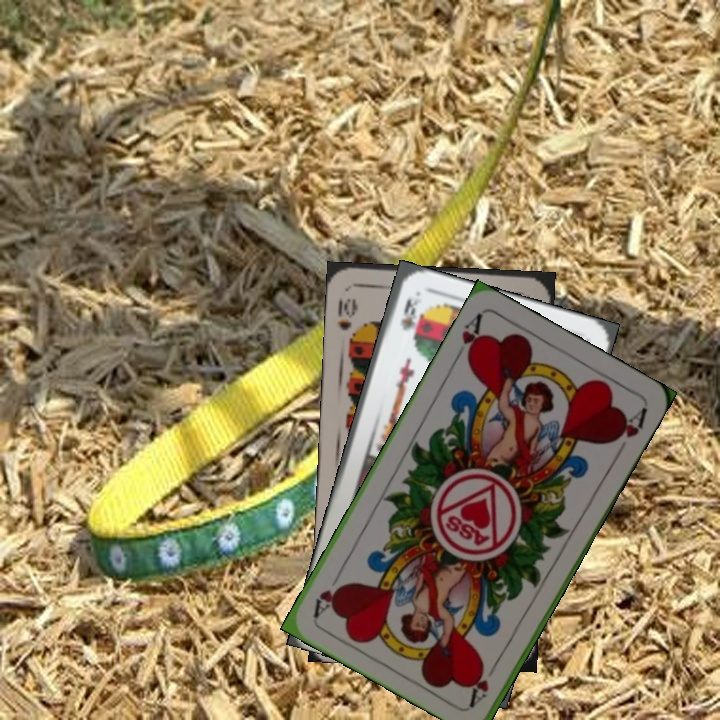HA: (450, 309, 486, 366), (466, 653, 503, 708)
S10: (333, 294, 359, 333)
SK: (396, 293, 424, 333)
